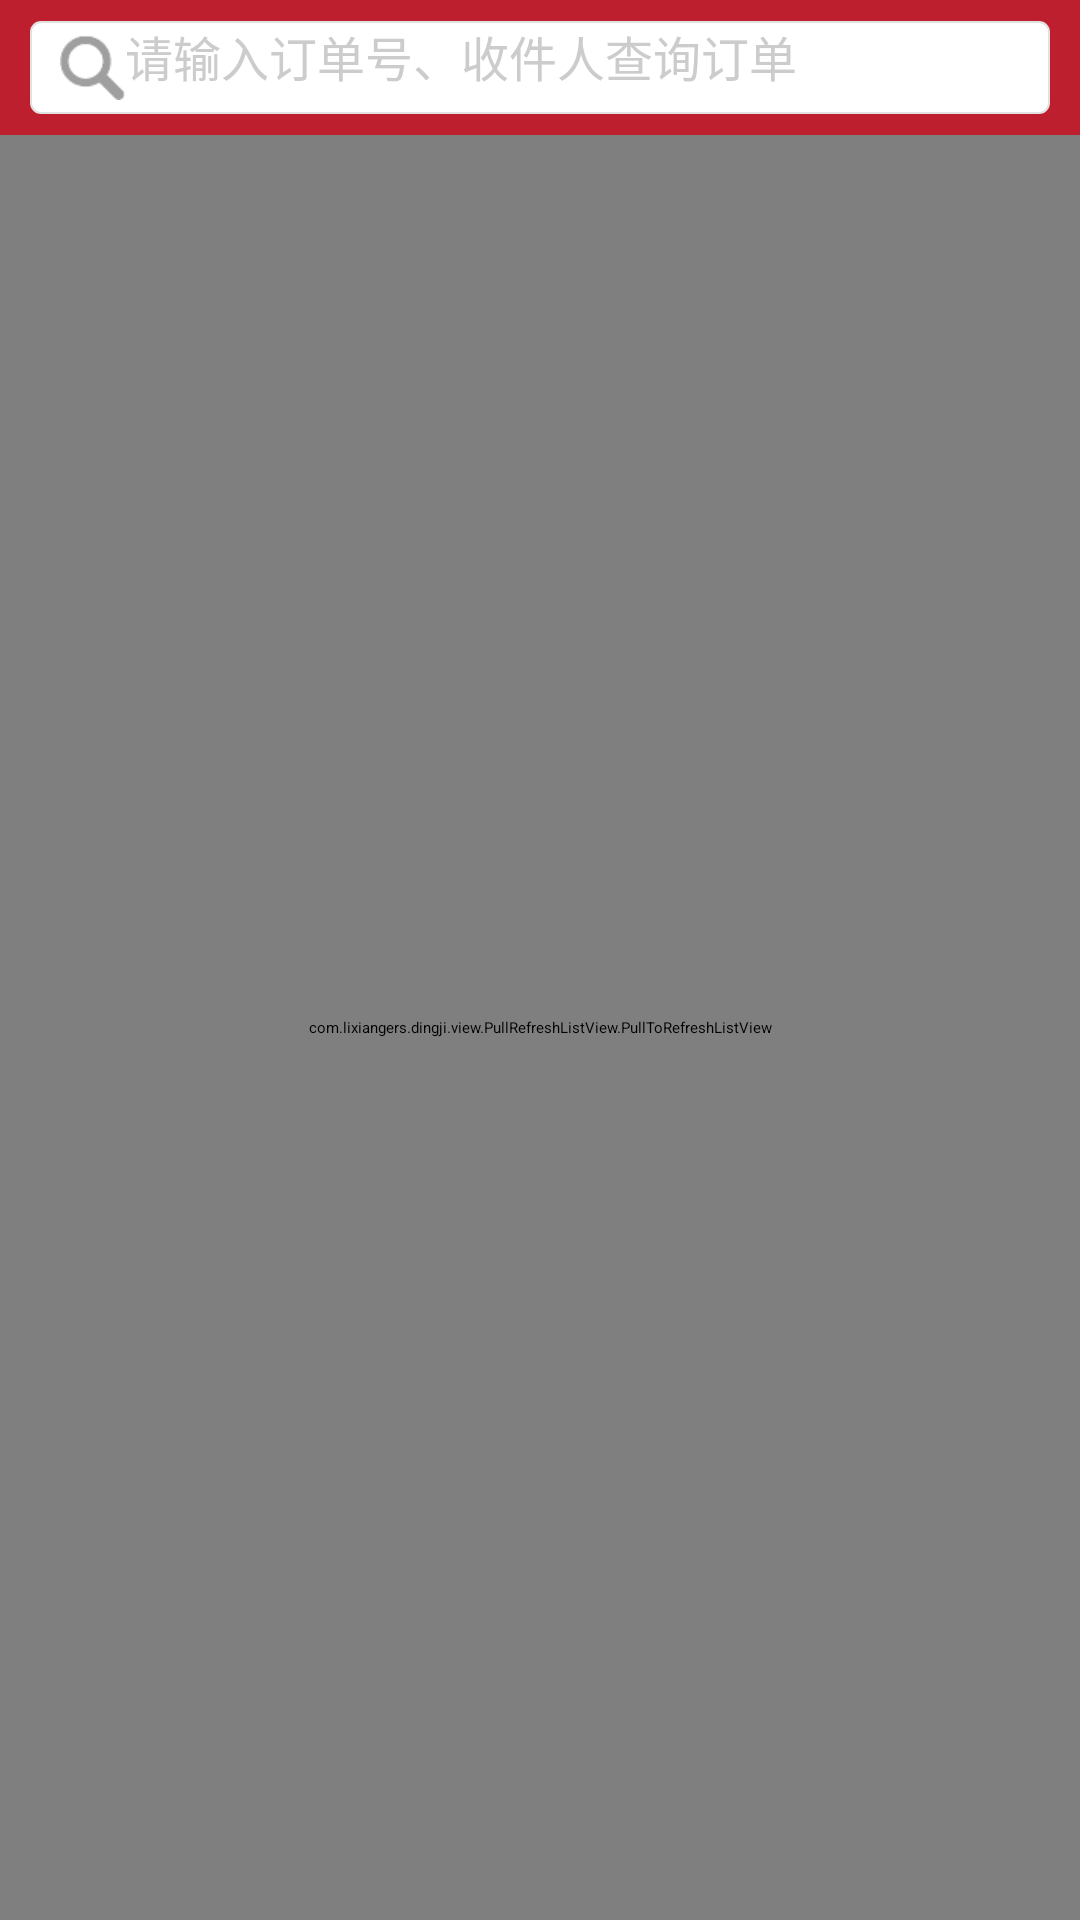

Locate icon controls on the screen. Image size 1080*1920, boxes as (x1, y1, x2, y2).
query: (60, 36, 124, 100)
